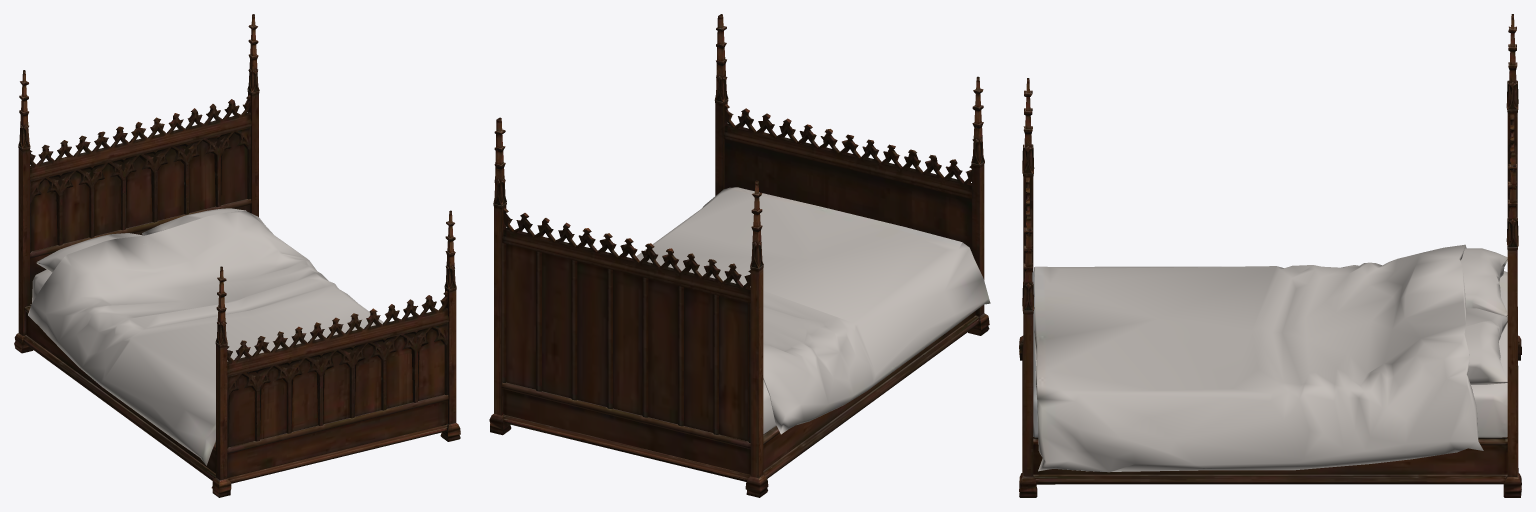
Rendered from hp_room_cc0_bed.glb.
The picture shows the model from 3 angles, left to right: view 1: azimuth 30°, elevation 25°; view 2: azimuth 150°, elevation 25°; view 3: azimuth 270°, elevation 25°; orthographic projection. The views are drawn at different scales.
Visible parts, largest first — view 1: GothicBed_01; view 2: GothicBed_01; view 3: GothicBed_01.
Part boxes in pixels (x1,y1,x2,y2): GothicBed_01: (14, 14, 460, 497); GothicBed_01: (489, 14, 990, 497); GothicBed_01: (1019, 14, 1521, 497).
Size of the model in its own units: 1.49 by 1.53 by 2.04.
1 material, 1 textured.
